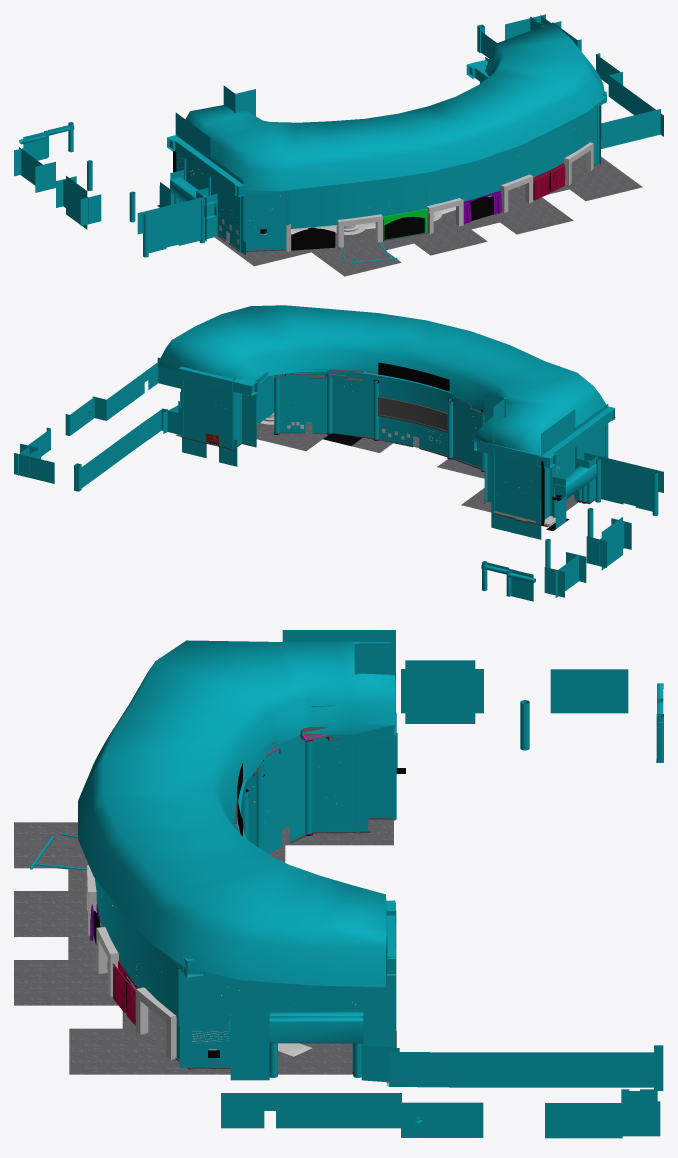
Rendered from Fnaf SB RockStarRow.fbx.
3 renders of one model, top to bottom at view 1: azimuth 30°, elevation 25°; view 2: azimuth 150°, elevation 25°; view 3: azimuth 270°, elevation 25°, orthographic. The views are drawn at different scales.
Parts seen in each view (by area): view 1: MOD_WallB_1third_L_mo_002, SM_Floor700x700cm_mo_064, Freddy_Green_Room_polySurface21_mo_003, SM_Column01_mo_012, SM_Table05_1_mo_082, MOD_MERGED_FreddyGreenRoom_01_mo, SM_Table05_1_mo_041, Freddy_Green_Room_polySurface1_mo_002; view 2: MOD_WallB_1third_L_mo_002, SM_Floor700x700cm_mo_064, MOD_CustomWallRSR_GLass_mo_001, MOD_CustomWallRSR_GLass_mo, MOD_RockstarWindowRim_mo; view 3: MOD_WallB_1third_L_mo_002, SM_Floor700x700cm_mo_064, SM_Column01_mo_012, SM_Table05_1_mo_041, MOD_MERGED_FreddyGreenRoom_01_mo.
Boxes of the visible parts, x1,y1,x2,y2 form: MOD_WallB_1third_L_mo_002: (14,14,663,263); SM_Floor700x700cm_mo_064: (214,153,642,276); Freddy_Green_Room_polySurface21_mo_003: (291,172,550,250); SM_Column01_mo_012: (427,174,533,233); SM_Table05_1_mo_082: (336,214,382,247); MOD_MERGED_FreddyGreenRoom_01_mo: (534,164,565,200); SM_Table05_1_mo_041: (564,142,593,185); Freddy_Green_Room_polySurface1_mo_002: (383,209,427,240); MOD_WallB_1third_L_mo_002: (14,305,663,601); SM_Floor700x700cm_mo_064: (176,422,578,512); MOD_CustomWallRSR_GLass_mo_001: (380,399,446,430); MOD_CustomWallRSR_GLass_mo: (378,362,449,391); MOD_RockstarWindowRim_mo: (378,397,447,432); MOD_WallB_1third_L_mo_002: (30,630,663,1138); SM_Floor700x700cm_mo_064: (14,819,393,1074); SM_Column01_mo_012: (86,865,118,996); SM_Table05_1_mo_041: (135,987,176,1059); MOD_MERGED_FreddyGreenRoom_01_mo: (112,963,135,1025).
Bounding box in the file's own units: 13369 × 2876 × 8384.
